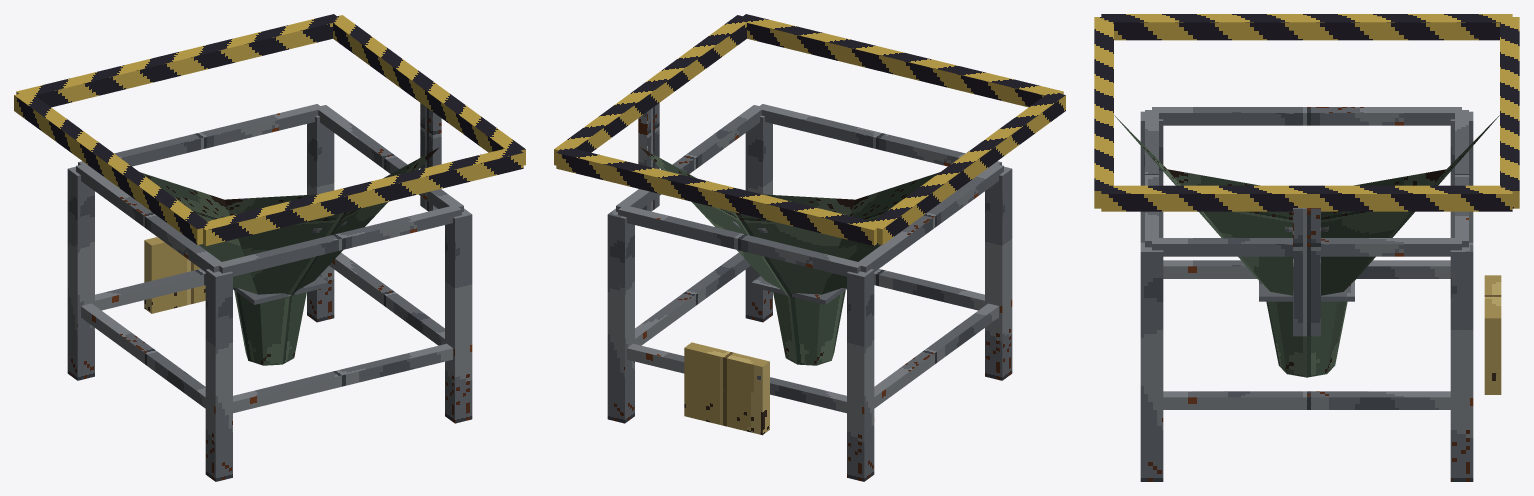
The model's file is machinery__small_hopper.glb.
3 views of the same model, side by side, from view 1: azimuth 30°, elevation 25°; view 2: azimuth 150°, elevation 25°; view 3: azimuth 270°, elevation 25° (orthographic). The views are drawn at different scales.
Visible parts, largest first — view 1: _MeshInstance3D_28, _MeshInstance3D_30, _MeshInstance3D_29, _MeshInstance3D_31; view 2: _MeshInstance3D_28, _MeshInstance3D_30, _MeshInstance3D_29, _MeshInstance3D_31; view 3: _MeshInstance3D_28, _MeshInstance3D_30, _MeshInstance3D_29, _MeshInstance3D_31.
Part boxes in pixels (left/top/right/bottom): _MeshInstance3D_28: left=67, top=103, right=472, bottom=481; _MeshInstance3D_30: left=14, top=14, right=525, bottom=245; _MeshInstance3D_29: left=140, top=147, right=438, bottom=365; _MeshInstance3D_31: left=144, top=237, right=205, bottom=313; _MeshInstance3D_28: left=607, top=103, right=1012, bottom=481; _MeshInstance3D_30: left=554, top=14, right=1065, bottom=245; _MeshInstance3D_29: left=641, top=147, right=939, bottom=365; _MeshInstance3D_31: left=684, top=342, right=769, bottom=435; _MeshInstance3D_28: left=1140, top=107, right=1473, bottom=481; _MeshInstance3D_30: left=1094, top=14, right=1519, bottom=211; _MeshInstance3D_29: left=1114, top=115, right=1499, bottom=377; _MeshInstance3D_31: left=1484, top=275, right=1501, bottom=394.
Bounding box in the file's own units: 1.52 × 1.2 × 1.51.
4 materials, 4 textured.
